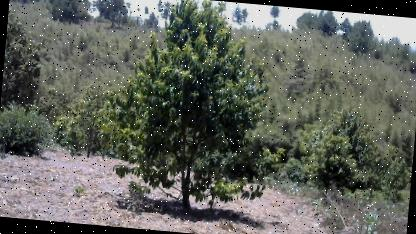tree: (99, 0, 293, 224)
